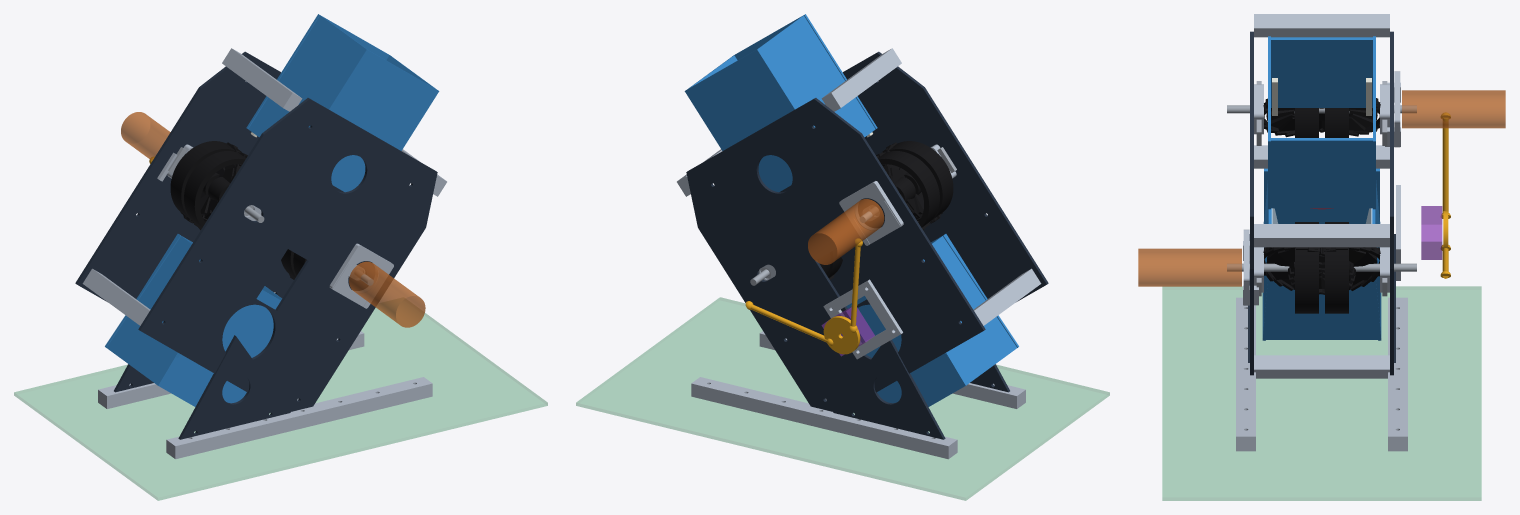
The model's file is biobuzz_launcher_nectar.glb.
3 renders of one model, left to right at view 1: azimuth 30°, elevation 25°; view 2: azimuth 150°, elevation 25°; view 3: azimuth 270°, elevation 25°, orthographic. The views are drawn at different scales.
Parts seen in each view (by area): view 1: main_side_plate_-1, 00_chassis_xy_reference, main_side_plate_+1, output_sidewall_-1, base_rail_-1, output_roof, angle_gusset_-1, input_sidewall_-1, input_roof, motor_envelope_lower, gecko_upper_1, gecko_upper_2 (+6 smaller); view 2: main_side_plate_+1, 00_chassis_xy_reference, main_side_plate_-1, output_sidewall_+1, base_rail_+1, output_roof, angle_gusset_+1, input_roof, input_sidewall_+1, motor_envelope_upper, gecko_upper_1, gecko_upper_2 (+7 smaller); view 3: 00_chassis_xy_reference, output_floor, output_roof, input_floor, motor_envelope_upper, motor_envelope_lower, crossmember_128_-118, crossmember_128_118, crossmember_-162_-118, gecko_lower_1, gecko_lower_2, base_rail_+1 (+20 smaller).
Part boxes in pixels (x1,y1,x2,y2): main_side_plate_-1: [138, 98, 437, 411]; 00_chassis_xy_reference: [14, 308, 547, 500]; main_side_plate_+1: [75, 51, 344, 301]; output_sidewall_-1: [327, 48, 439, 192]; base_rail_-1: [166, 377, 432, 459]; output_roof: [248, 15, 368, 137]; angle_gusset_-1: [178, 335, 290, 439]; input_sidewall_-1: [157, 290, 280, 406]; input_roof: [107, 234, 200, 384]; motor_envelope_lower: [349, 261, 425, 327]; gecko_upper_1: [184, 150, 247, 230]; gecko_upper_2: [170, 141, 241, 223]; main_side_plate_+1: [686, 98, 985, 411]; 00_chassis_xy_reference: [576, 297, 1109, 500]; main_side_plate_-1: [779, 51, 1048, 301]; output_sidewall_+1: [684, 48, 796, 192]; base_rail_+1: [691, 377, 957, 459]; output_roof: [755, 15, 875, 137]; angle_gusset_+1: [833, 340, 945, 439]; input_roof: [923, 234, 1016, 384]; input_sidewall_+1: [846, 296, 966, 406]; motor_envelope_upper: [808, 199, 884, 264]; gecko_upper_1: [882, 141, 953, 223]; gecko_upper_2: [876, 150, 939, 230]; 00_chassis_xy_reference: [1162, 286, 1481, 500]; output_floor: [1268, 138, 1375, 208]; output_roof: [1268, 37, 1375, 107]; input_floor: [1264, 275, 1379, 339]; motor_envelope_upper: [1402, 90, 1505, 128]; motor_envelope_lower: [1138, 248, 1241, 286]; crossmember_128_-118: [1254, 224, 1389, 247]; crossmember_128_118: [1254, 14, 1389, 37]; crossmember_-162_-118: [1254, 355, 1389, 378]; gecko_lower_1: [1263, 222, 1355, 313]; gecko_lower_2: [1288, 222, 1380, 313]; base_rail_+1: [1388, 297, 1407, 451].
Bounding box in the file's own units: 500 × 434 × 368.
